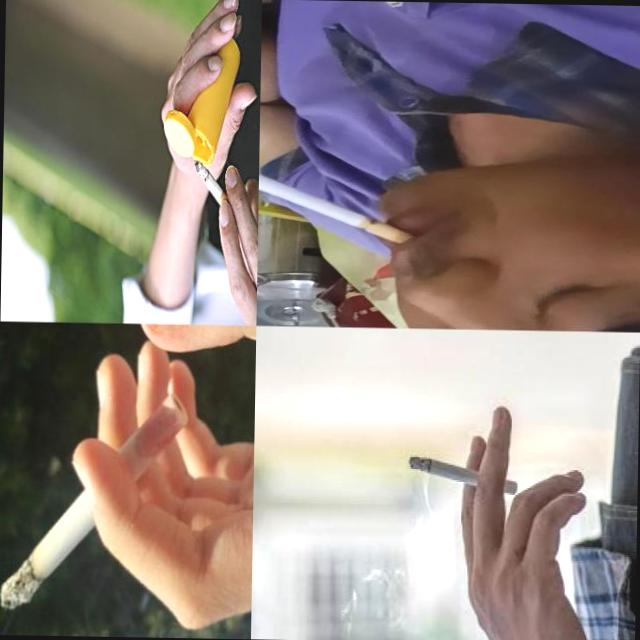smoke: (0, 391, 189, 614), (258, 169, 416, 244), (408, 454, 518, 494), (190, 157, 231, 215)
